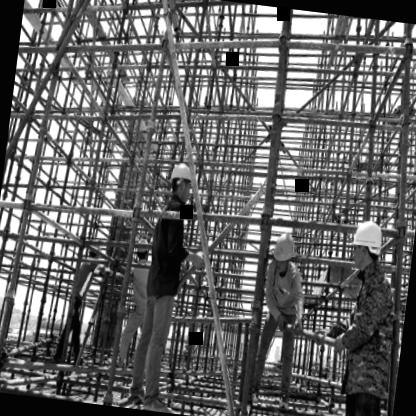helmet: (348, 215, 386, 272), (165, 158, 198, 204), (270, 230, 302, 276), (132, 232, 152, 260)
